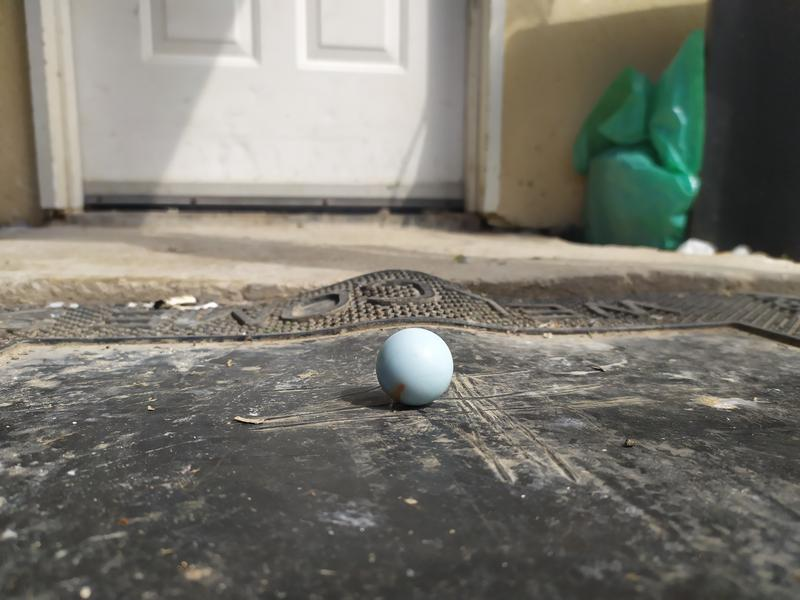Warning: (373, 326, 458, 408)
